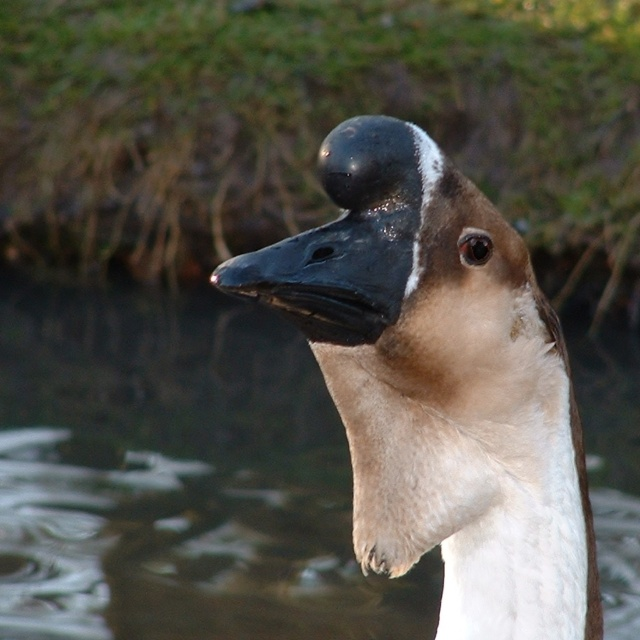Goose: (213, 122, 618, 640)
